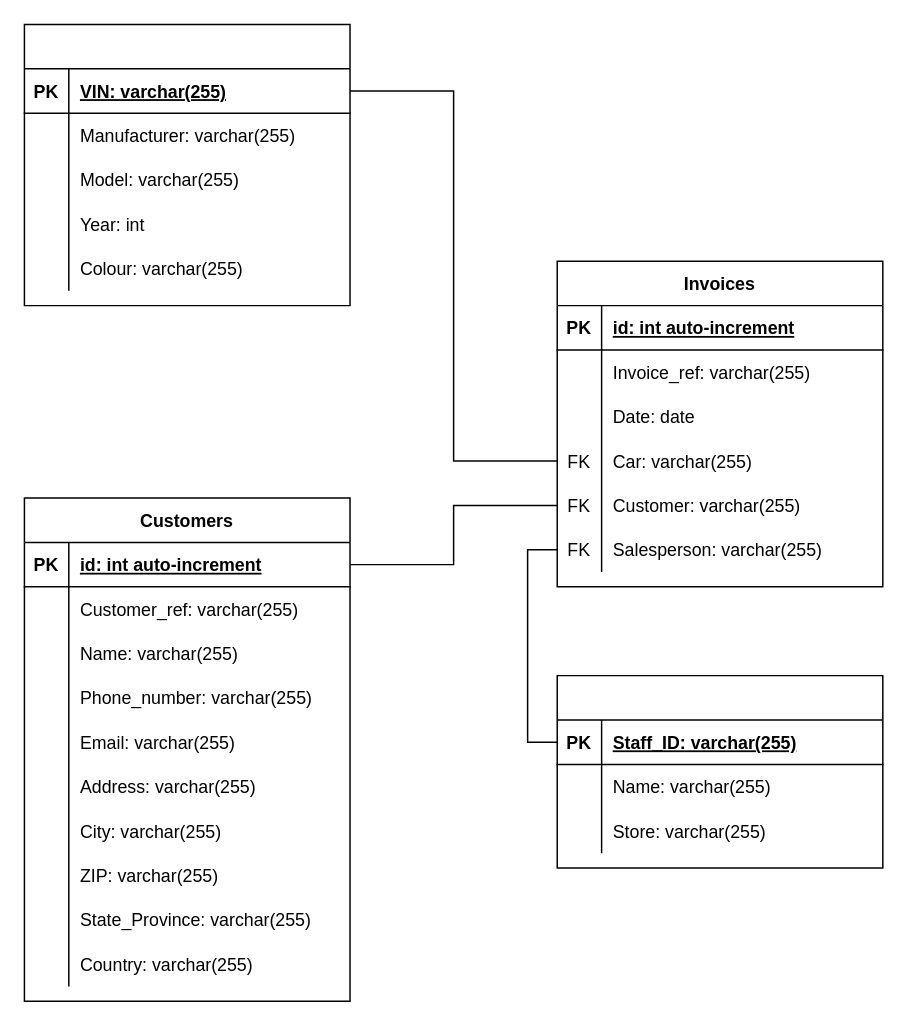
Image size: 907x1026. Some labels were removed from this diagram. The box of each missing label's shape, as (x1, y1, x2, y2) in pixels:
Cars: (23, 23, 350, 306)
Salespeople: (556, 674, 883, 868)
